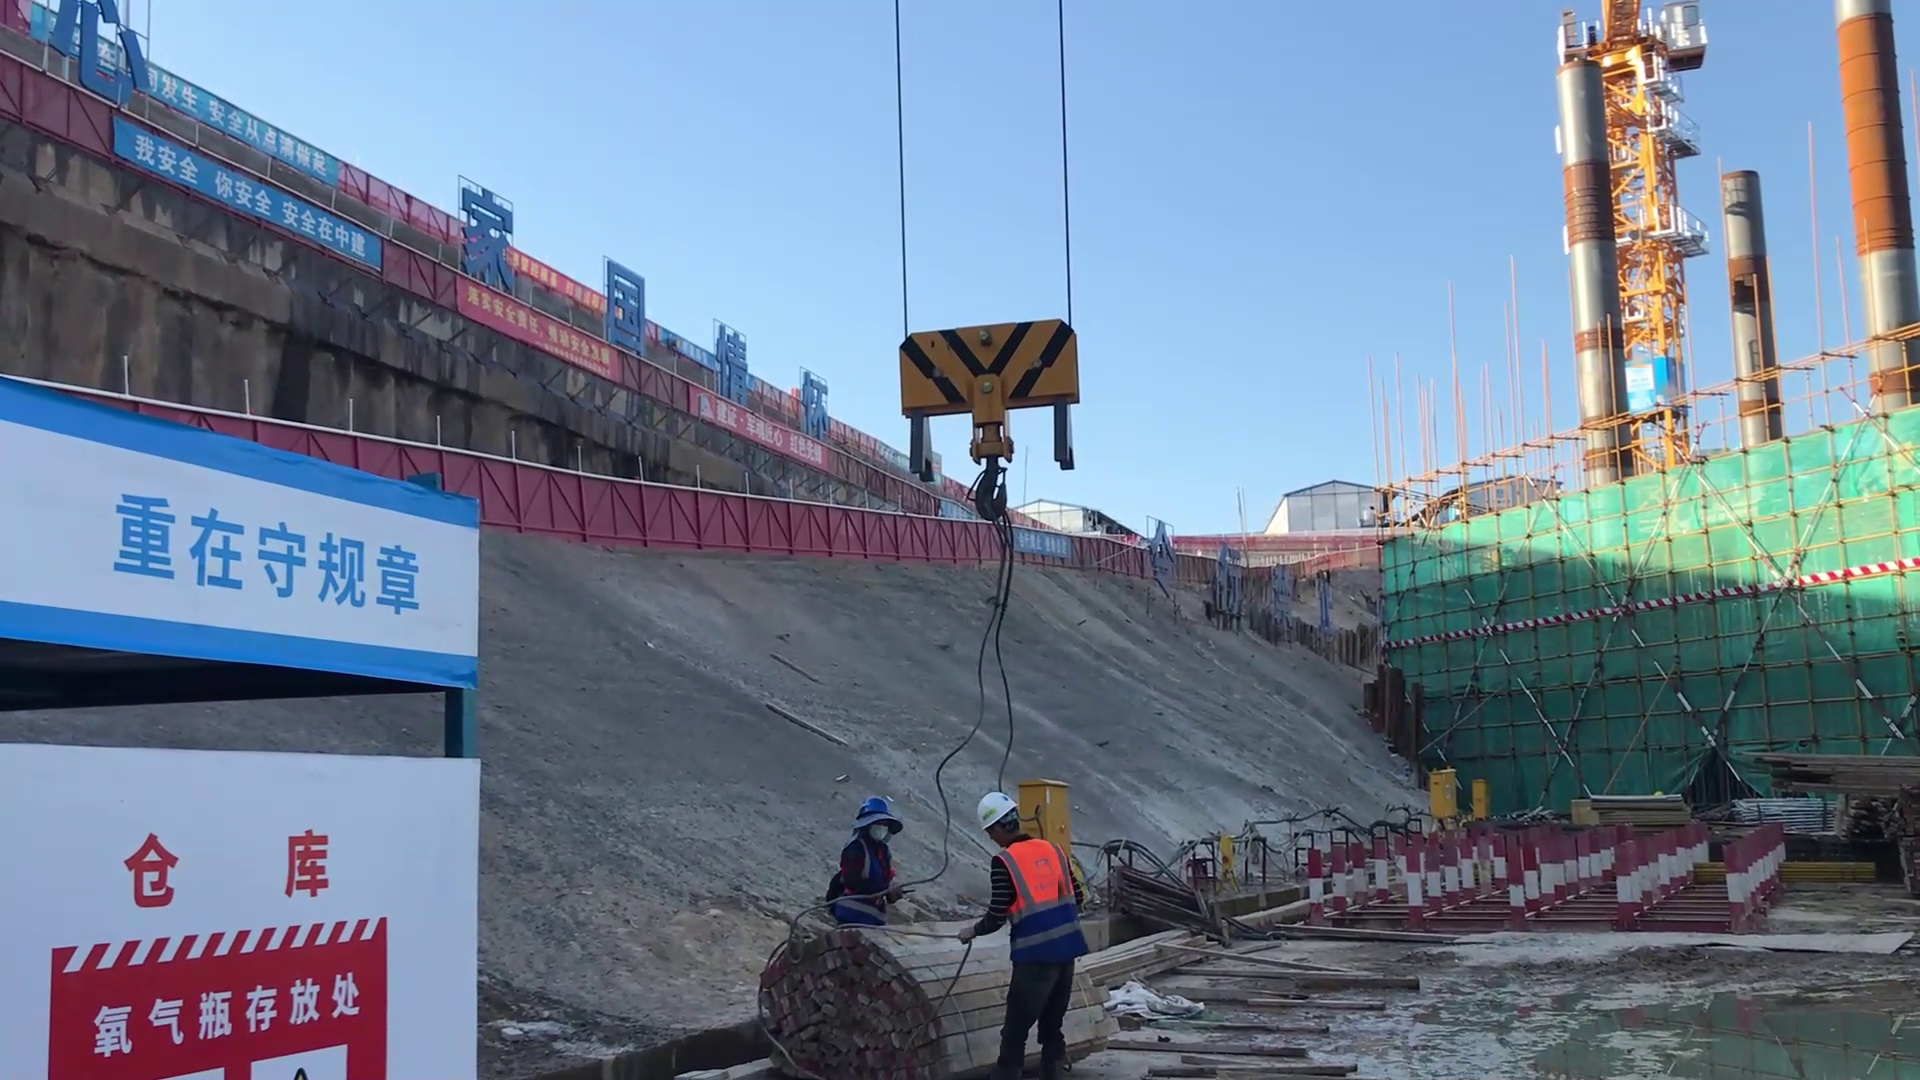ebox: (1033, 765, 1097, 853), (1425, 768, 1462, 821), (1469, 779, 1485, 823)
fence: (478, 457, 823, 557), (825, 509, 1006, 563)
helmet: (967, 793, 1022, 841), (849, 797, 894, 837)
hook: (893, 312, 1078, 470)
person: (957, 788, 1090, 1080), (819, 779, 920, 925)
slogan: (71, 483, 438, 650), (111, 137, 374, 285), (99, 41, 326, 194), (444, 281, 618, 405)
vest: (978, 834, 1077, 908)
wood: (762, 927, 946, 1080), (1741, 739, 1920, 804)
